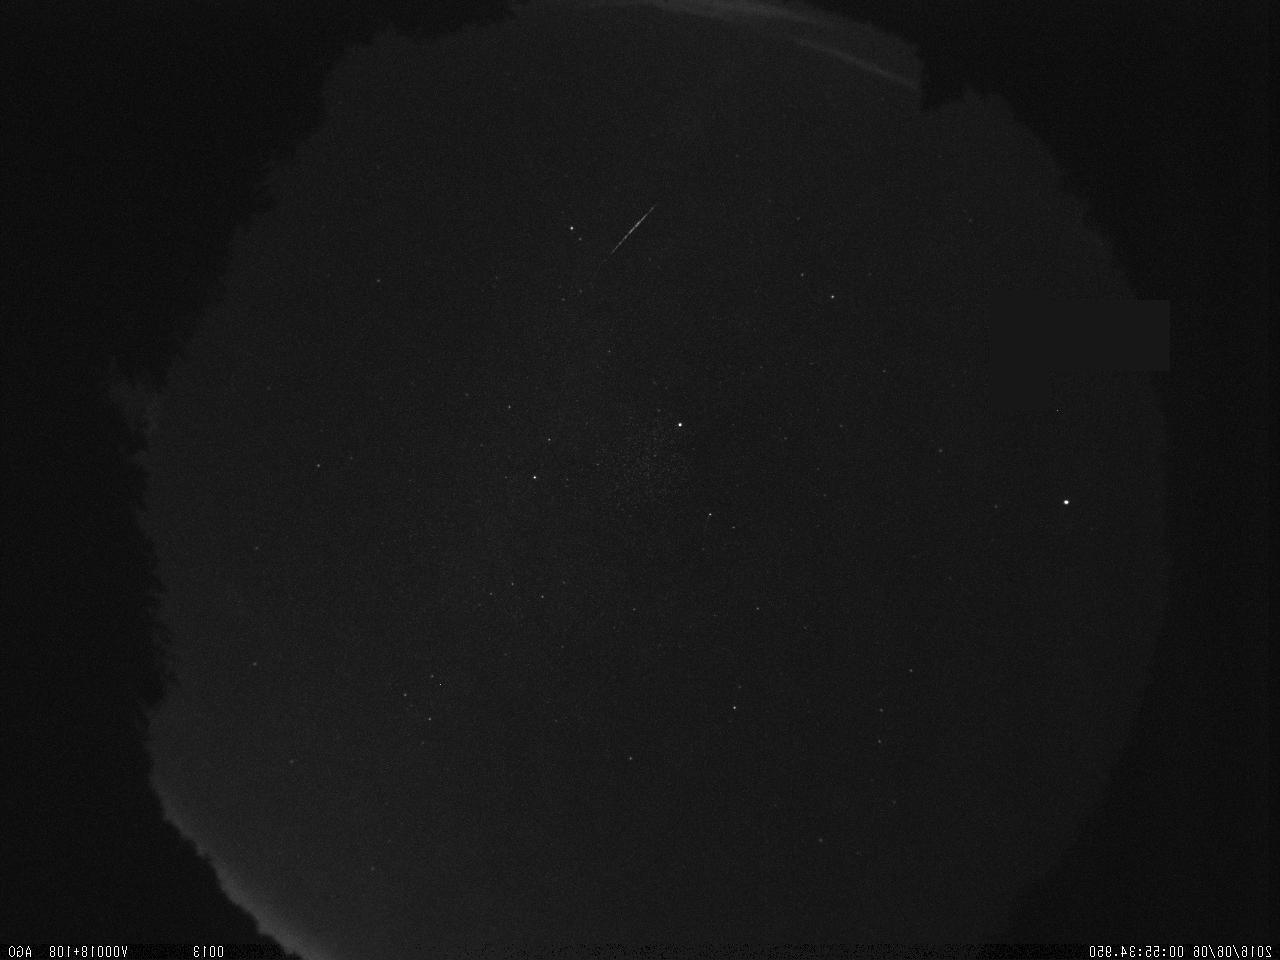meteor: (598, 194, 669, 267)
